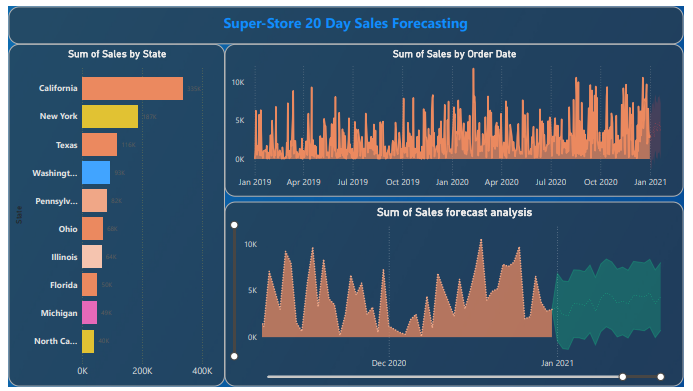

What the dashboard file says about the page in this screenshot:
{"tool":"powerbi","page":{"name":"Sales Forecasting","canvas":[1280,720],"ordinal":1},"visuals":[{"type":"lineChart","fields":{"Y":["Sum(SuperStore_Sales_Dataset.Sales)"],"Category":["SuperStore_Sales_Dataset.Order Date"]},"box":[410,71.4,870,288.6],"z":0},{"type":"lineChart","title":"Sum of Sales forecast analysis","fields":{"Y":["Sum(SuperStore_Sales_Dataset.Sales)"],"Category":["SuperStore_Sales_Dataset.Order Date"]},"box":[410,370,870,350],"z":1000},{"type":"clusteredBarChart","fields":{"Category":["SuperStore_Sales_Dataset.State"],"Y":["Sum(SuperStore_Sales_Dataset.Sales)"]},"box":[0,71.4,410,648.6],"z":2000},{"type":"textbox","box":[0,0,1280,71.4],"z":3000}]}

Visuals, with their boxes in screenshot pixels (x1, y1, x2, y2), scaled from the page's 1280x720 canvas onto the 693x391 screenshot:
lineChart - Sum(SuperStore_Sales_Dataset.Sales) x SuperStore_Sales_Dataset.Order Date: bbox=(222, 39, 692, 195)
"Sum of Sales forecast analysis" lineChart: bbox=(222, 201, 692, 390)
clusteredBarChart - SuperStore_Sales_Dataset.State x Sum(SuperStore_Sales_Dataset.Sales): bbox=(0, 39, 222, 390)
textbox: bbox=(0, 0, 692, 39)
